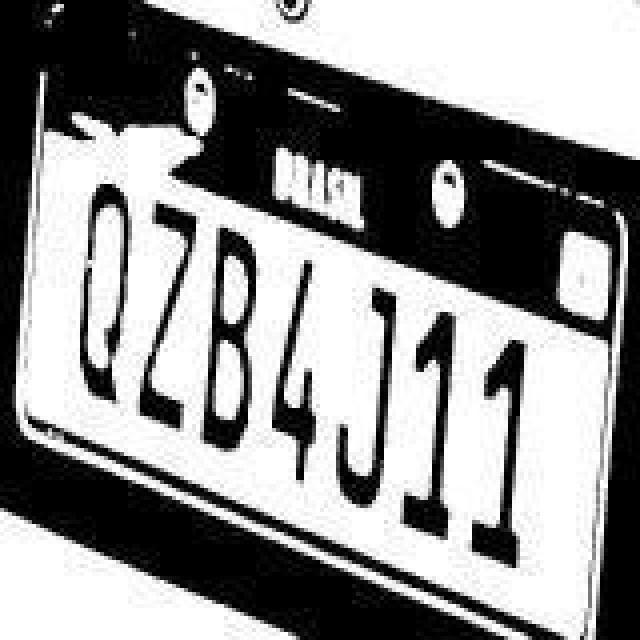1: (464, 314, 544, 566), (400, 300, 464, 548)
4: (268, 246, 324, 514)
B: (200, 224, 264, 464)
J: (332, 270, 404, 514)
Q: (80, 176, 128, 408)
Z: (138, 188, 198, 436)
